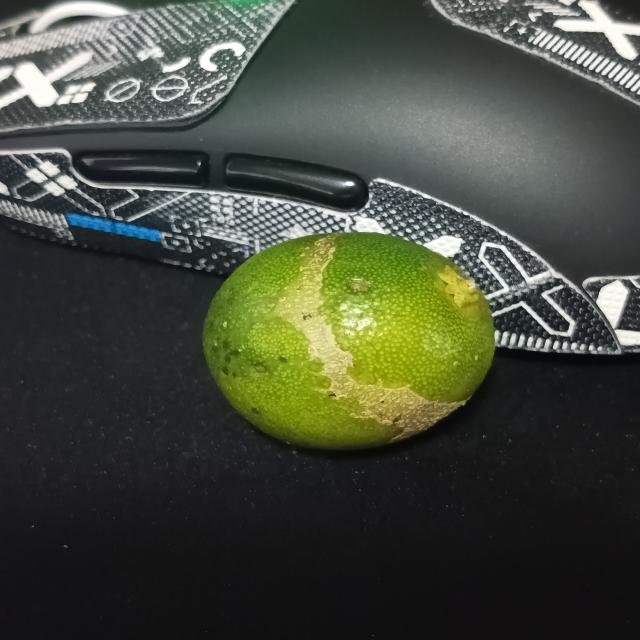thrips: (200, 231, 503, 453)
